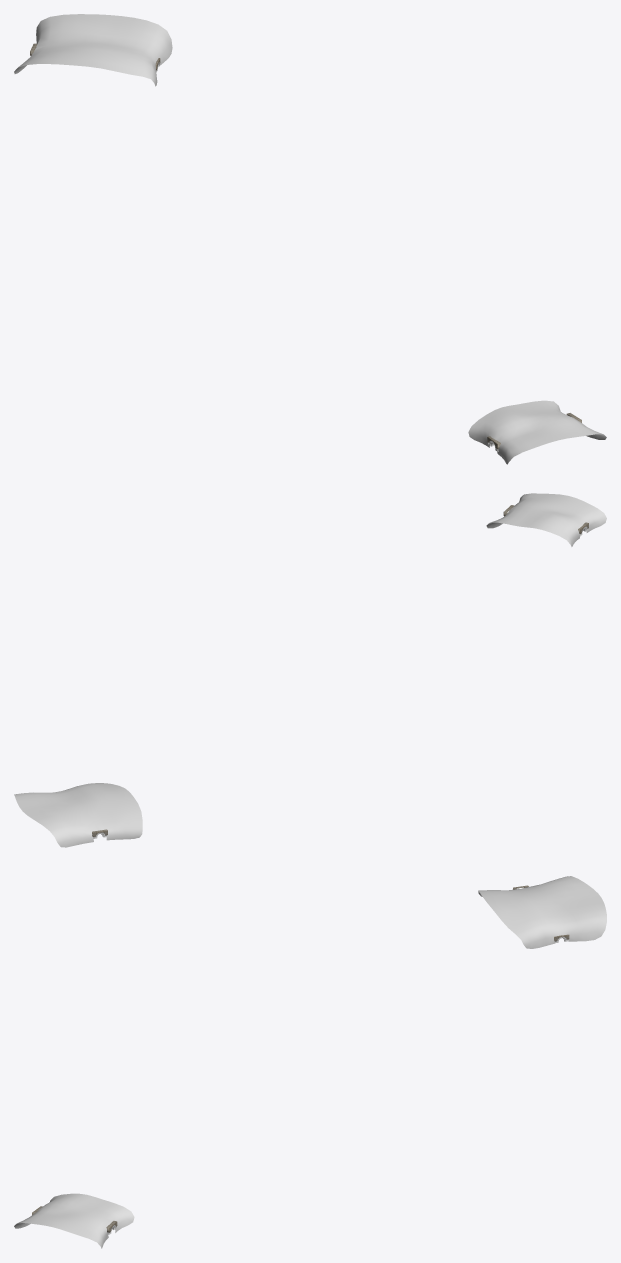
File: tunnel.fbx
The picture shows the model from 3 angles, top to bottom: view 1: azimuth 30°, elevation 25°; view 2: azimuth 150°, elevation 25°; view 3: azimuth 330°, elevation 25°; orthographic projection. The views are drawn at different scales.
Visible parts, largest first — view 1: Mesh (4), Mesh (3); view 2: Mesh (4), Mesh (3); view 3: Mesh (4), Mesh (3).
Part boxes in pixels (x1,y1,x2,y2): Mesh (4): (14,14,172,86); Mesh (3): (468,400,606,464); Mesh (4): (14,783,142,847); Mesh (3): (486,493,606,546); Mesh (4): (478,876,606,948); Mesh (3): (14,1193,134,1248).
Bounding box in the file's own units: 20208 × 3648 × 113853.
